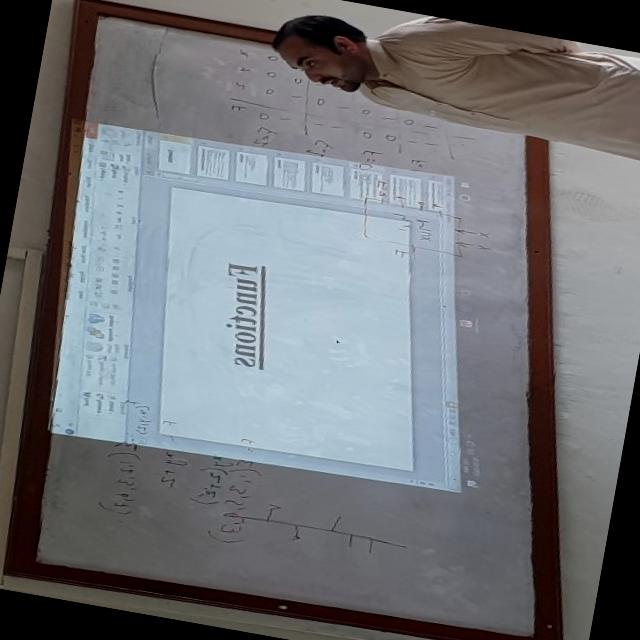Instructor: (255, 0, 640, 173)
Slide: (48, 117, 488, 496)
White-board: (14, 8, 550, 640)
